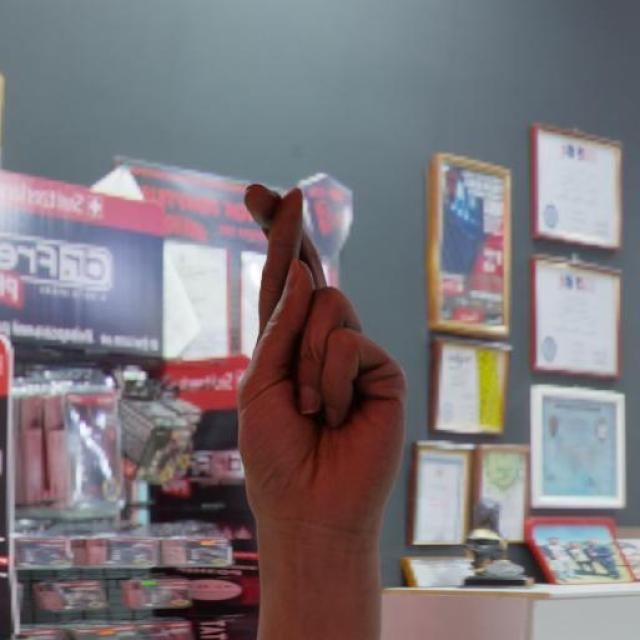R: (235, 180, 410, 526)
